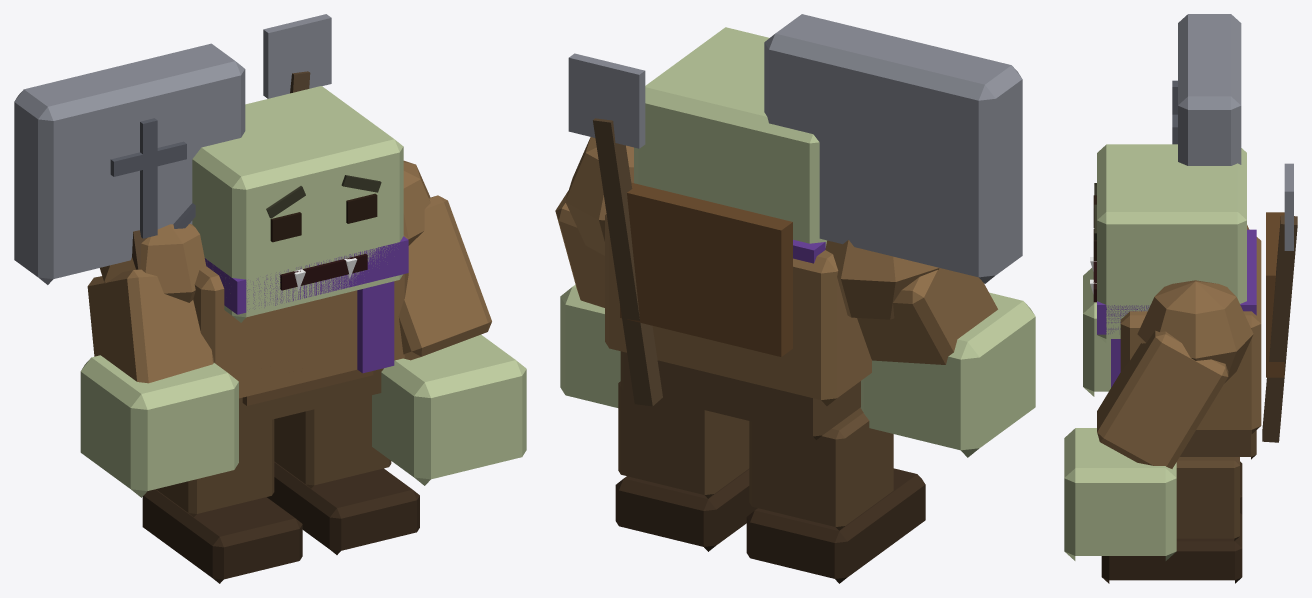
File: r4_mini_gravedigger.glb
The picture shows the model from 3 angles, left to right: view 1: azimuth 30°, elevation 25°; view 2: azimuth 150°, elevation 25°; view 3: azimuth 270°, elevation 25°; orthographic projection. The views are drawn at different scales.
Parts seen in each view (by area): view 1: r4_mini_gravedigger_mesh; view 2: r4_mini_gravedigger_mesh; view 3: r4_mini_gravedigger_mesh.
Boxes of the visible parts, <box> form: r4_mini_gravedigger_mesh: <box>14,14,526,583</box>; r4_mini_gravedigger_mesh: <box>555,14,1035,583</box>; r4_mini_gravedigger_mesh: <box>1064,14,1297,583</box>.
Bounding box in the file's own units: 3.93 × 4.2 × 2.07.
Materials: 1 (1 with a texture image).
